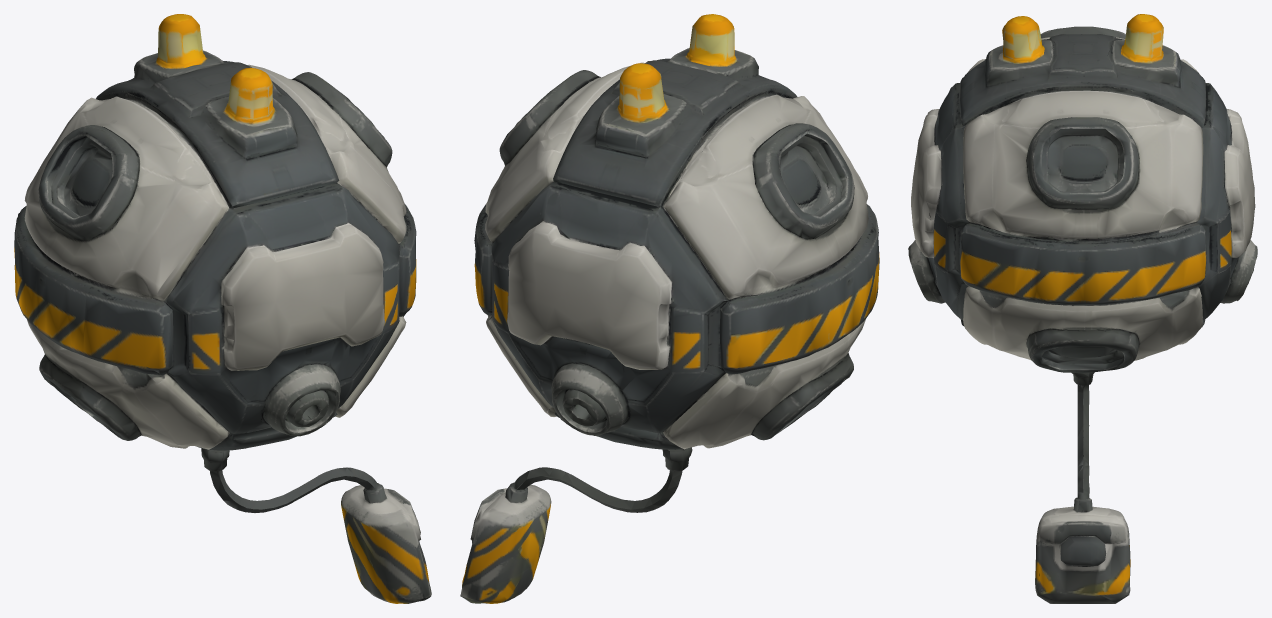
File: 05_proximity_mine.fbx
The picture shows the model from 3 angles, left to right: view 1: azimuth 30°, elevation 25°; view 2: azimuth 150°, elevation 25°; view 3: azimuth 270°, elevation 25°; orthographic projection. The views are drawn at different scales.
Visible parts, largest first — view 1: 05_proximity_mine; view 2: 05_proximity_mine; view 3: 05_proximity_mine.
Boxes of the visible parts, box(x1,y1,x2,y2) form: 05_proximity_mine: box(14, 14, 431, 603); 05_proximity_mine: box(460, 14, 879, 603); 05_proximity_mine: box(908, 14, 1257, 603).
Size of the model in its own units: 1.44 by 2.2 by 1.37.
Materials: 1 (1 with a texture image).
